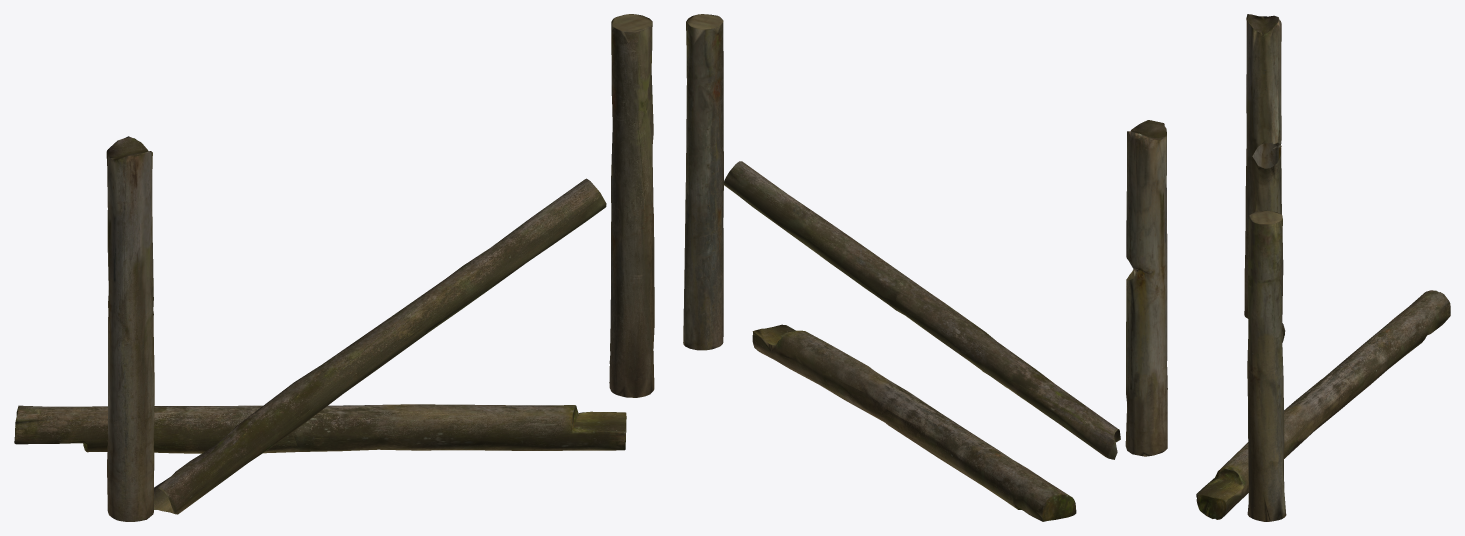
Rendered from BrokenFence2.fbx.
3 renders of one model, left to right at view 1: azimuth 30°, elevation 25°; view 2: azimuth 150°, elevation 25°; view 3: azimuth 270°, elevation 25°, orthographic. The views are drawn at different scales.
Visible parts, largest first — view 1: BrokenFence2; view 2: BrokenFence2; view 3: BrokenFence2.
Boxes of the visible parts, x1,y1,x2,y2 form: BrokenFence2: (14, 14, 654, 521); BrokenFence2: (683, 14, 1167, 521); BrokenFence2: (1196, 14, 1450, 521).
Size of the model in its own units: 176 by 121 by 87.77.
